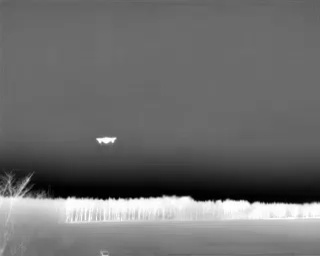DRONE: (91, 131, 120, 152)
